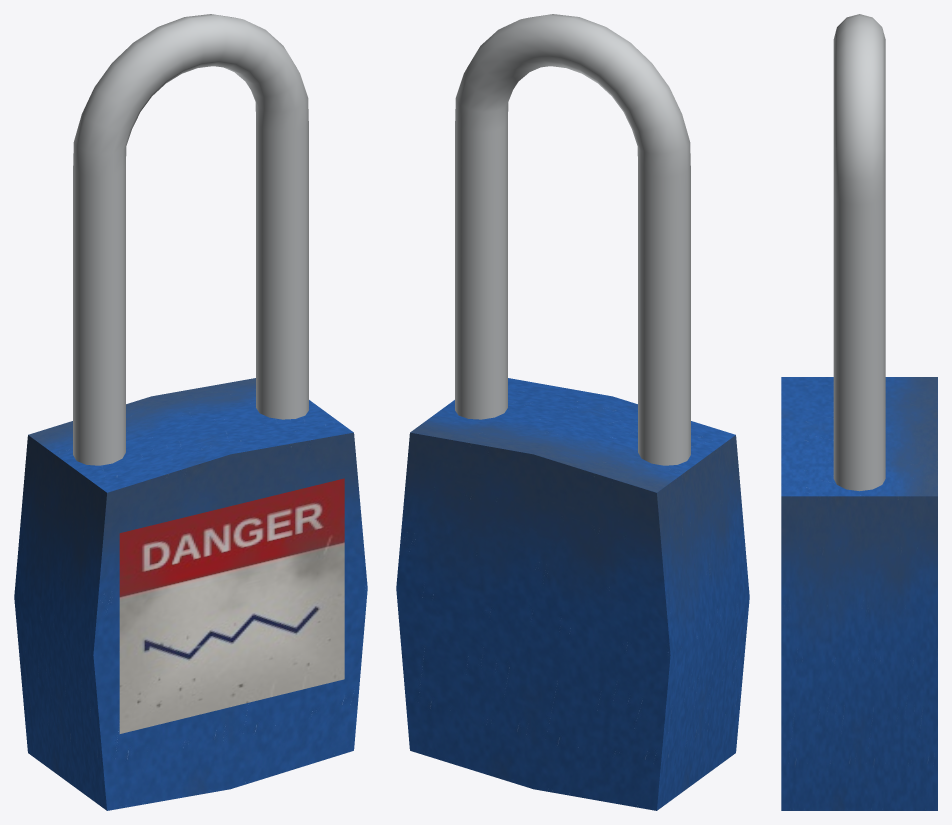
The model's file is SM_Cadenas_Bleu.glb.
The picture shows the model from 3 angles, left to right: view 1: azimuth 30°, elevation 25°; view 2: azimuth 150°, elevation 25°; view 3: azimuth 270°, elevation 25°; orthographic projection.
Visible parts, largest first — view 1: SM_Cadenas_Bleu; view 2: SM_Cadenas_Bleu; view 3: SM_Cadenas_Bleu.
Part boxes in pixels (bbox=[...]): SM_Cadenas_Bleu: bbox=[14, 14, 367, 810]; SM_Cadenas_Bleu: bbox=[396, 14, 749, 810]; SM_Cadenas_Bleu: bbox=[781, 14, 937, 810].
Bounding box in the file's own units: 0.0381 × 0.0992 × 0.0195.
4 materials, 2 textured.
